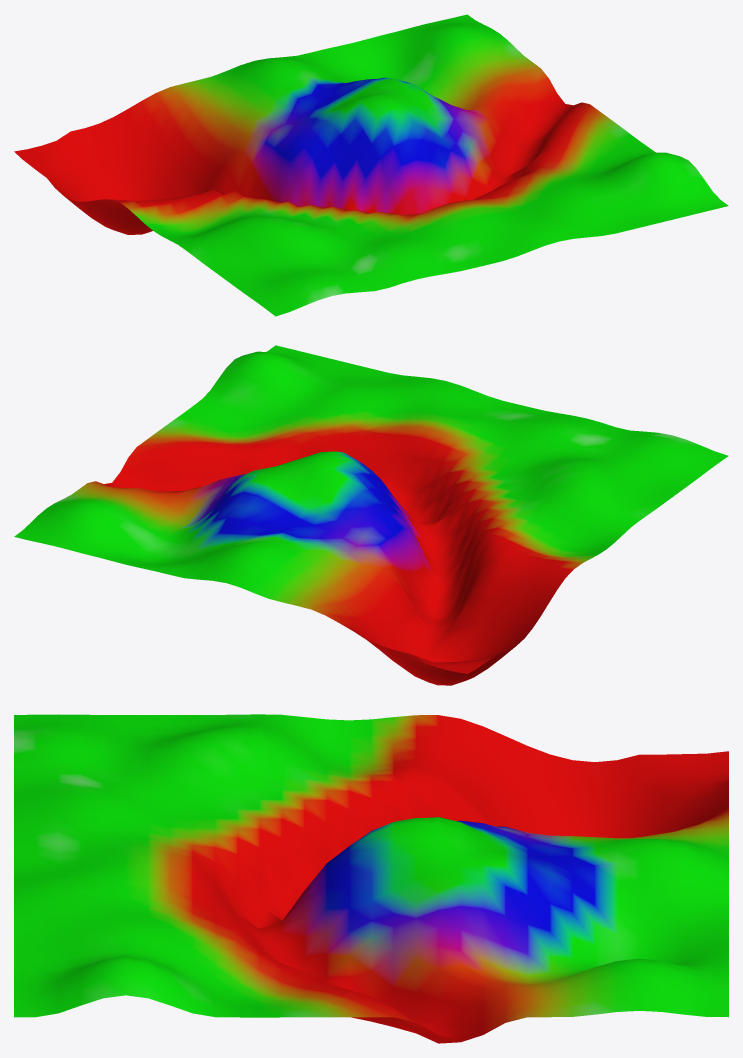
Rendered from MintTagForestTerrrainv5.fbx.
3 renders of one model, top to bottom at view 1: azimuth 30°, elevation 25°; view 2: azimuth 150°, elevation 25°; view 3: azimuth 270°, elevation 25°, orthographic. The views are drawn at different scales.
Parts seen in each view (by area): view 1: Plane; view 2: Plane; view 3: Plane.
Boxes of the visible parts, box(x1,y1,x2,y2) form: Plane: box(14, 14, 728, 316); Plane: box(14, 345, 728, 685); Plane: box(14, 714, 728, 1043).
Size of the model in its own units: 43032 by 12111 by 43032.
